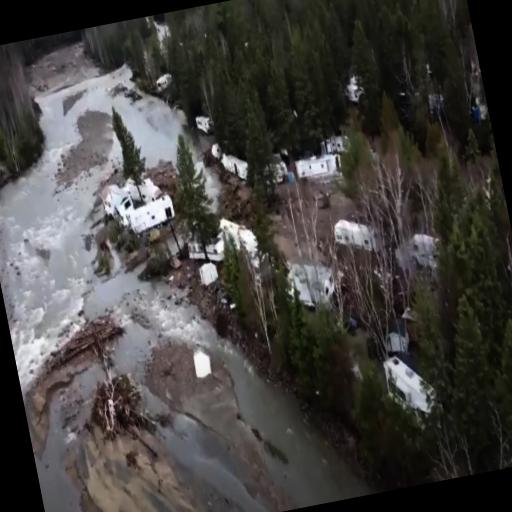flood: (0, 66, 377, 512), (183, 125, 221, 213)
house: (96, 166, 180, 249), (381, 347, 442, 433), (182, 208, 254, 272), (331, 210, 383, 266), (294, 150, 338, 184), (222, 148, 252, 185), (193, 110, 215, 139), (154, 70, 176, 98)
